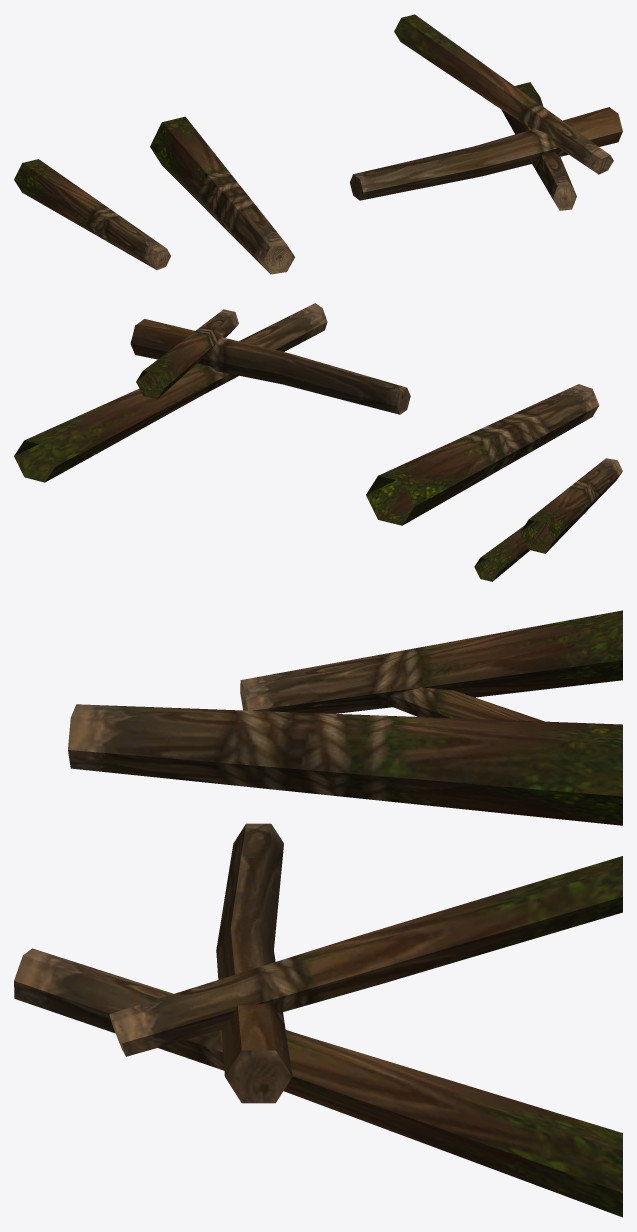
File: huodong_fuben_238_n_baluster02.obj
3 renders of one model, top to bottom at view 1: azimuth 30°, elevation 25°; view 2: azimuth 150°, elevation 25°; view 3: azimuth 270°, elevation 25°, orthographic. The views are drawn at different scales.
Parts seen in each view (by area): view 1: huodong_fuben_238_n_baluster02; view 2: huodong_fuben_238_n_baluster02; view 3: huodong_fuben_238_n_baluster02.
Part boxes in pixels (x1,y1,x2,y2): huodong_fuben_238_n_baluster02: (14,14,622,274); huodong_fuben_238_n_baluster02: (14,303,622,581); huodong_fuben_238_n_baluster02: (14,610,622,1217).
Size of the model in its own units: 336 by 80.65 by 181.
Materials: 1 (1 with a texture image).
